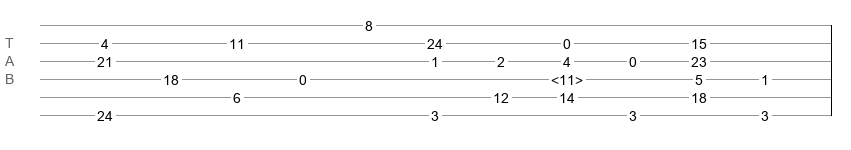0: (299, 72, 307, 82), (563, 36, 571, 46), (629, 54, 637, 64)
1: (431, 54, 439, 64), (761, 72, 769, 82)
11: (229, 36, 245, 46)
12: (493, 90, 509, 100)
14: (559, 90, 575, 100)
15: (691, 36, 707, 46)
18: (163, 72, 179, 82), (691, 90, 707, 100)
2: (497, 54, 505, 64)
21: (97, 54, 113, 64)
23: (691, 54, 707, 64)
24: (97, 108, 113, 118), (427, 36, 443, 46)
3: (431, 108, 439, 118), (629, 108, 637, 118), (761, 108, 769, 118)
4: (101, 36, 109, 46), (563, 54, 571, 64)
5: (695, 72, 703, 82)
6: (233, 90, 241, 100)
8: (365, 18, 373, 28)
harmonic: (551, 72, 583, 82)
